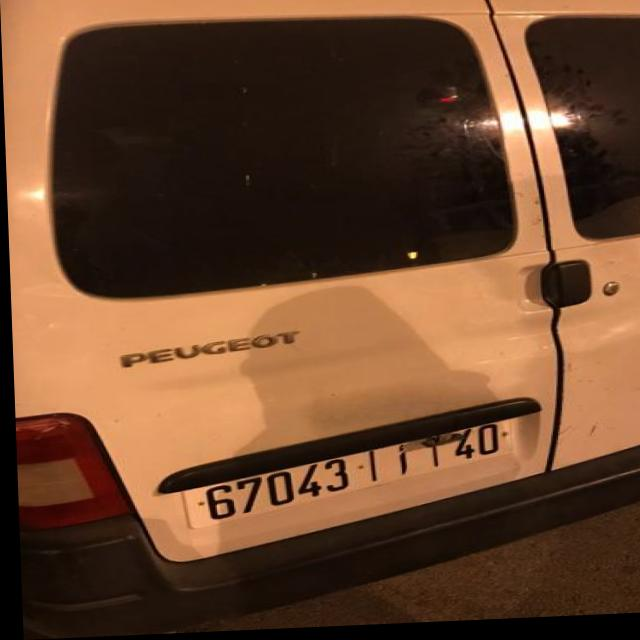License-Plate: (180, 426, 506, 529)
